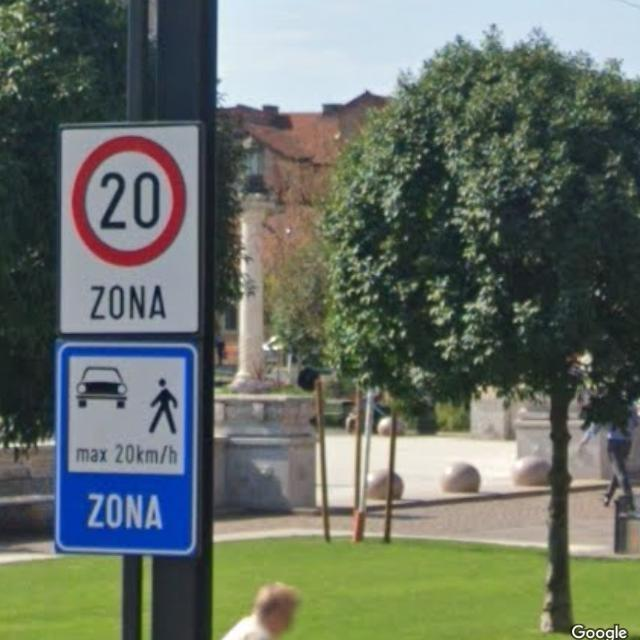forb_speed_over_20: (71, 134, 189, 269)
